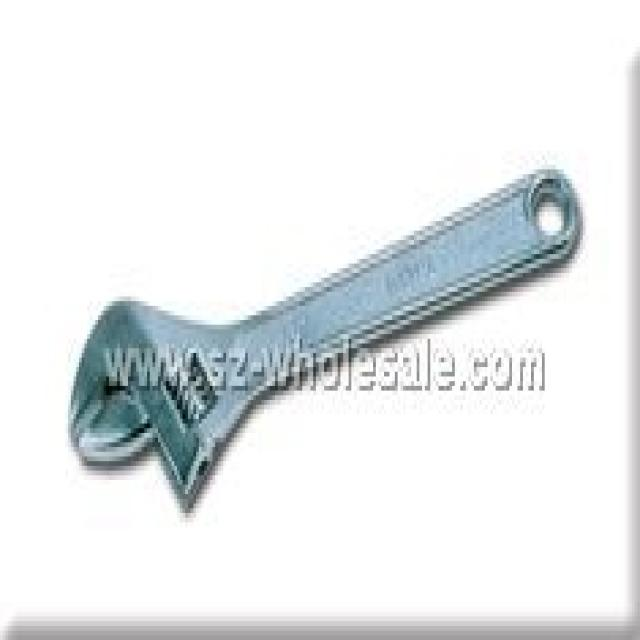wrench: (30, 205, 602, 493)
